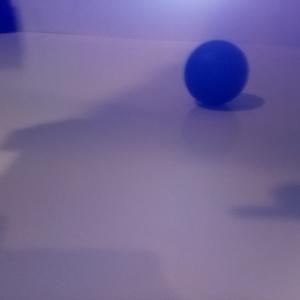dead_ball: (183, 39, 248, 105)
